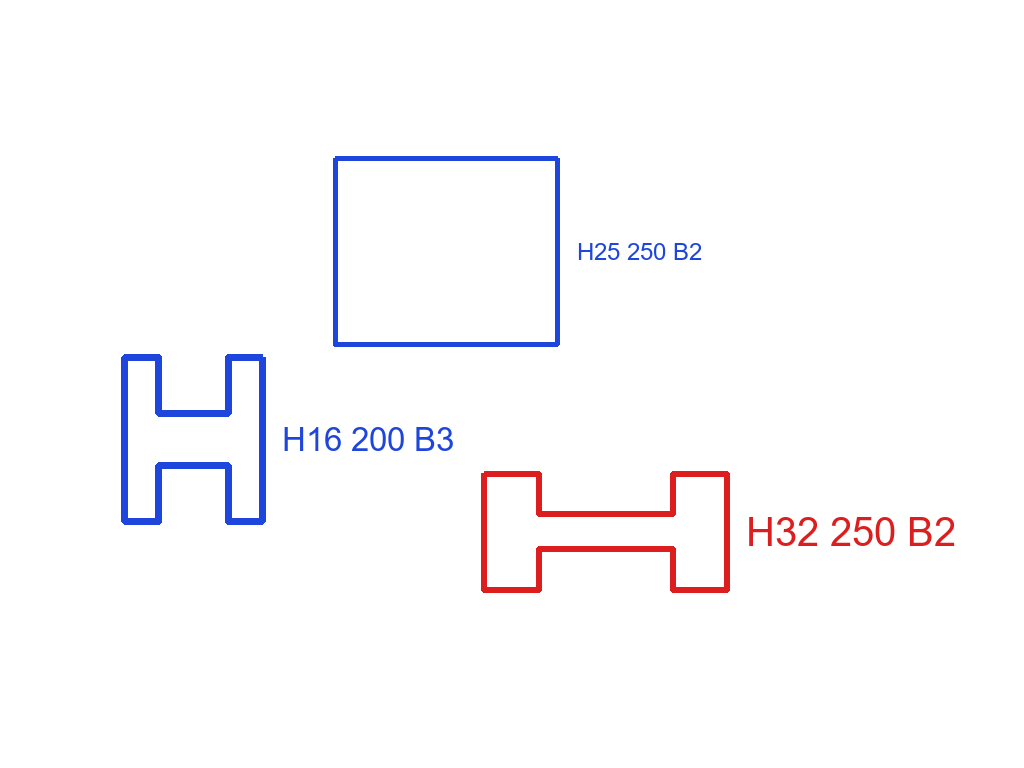shape: (331, 154, 562, 349), (480, 468, 731, 595), (119, 352, 268, 527)
text: (744, 515, 958, 548), (280, 425, 456, 453), (575, 241, 704, 262)
